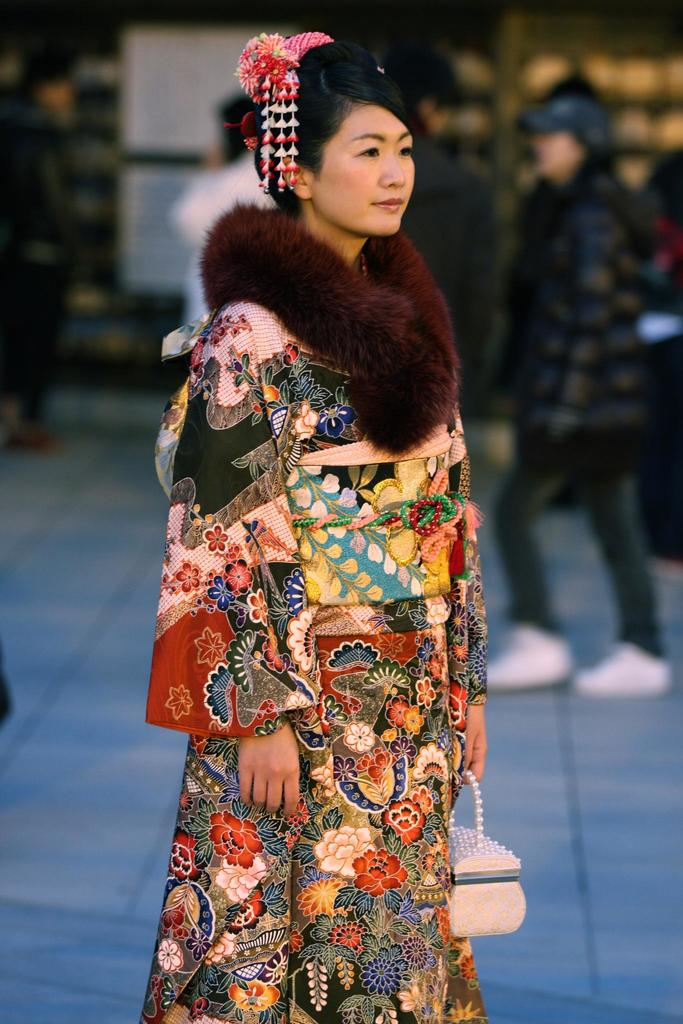Person: (479, 72, 673, 699)
